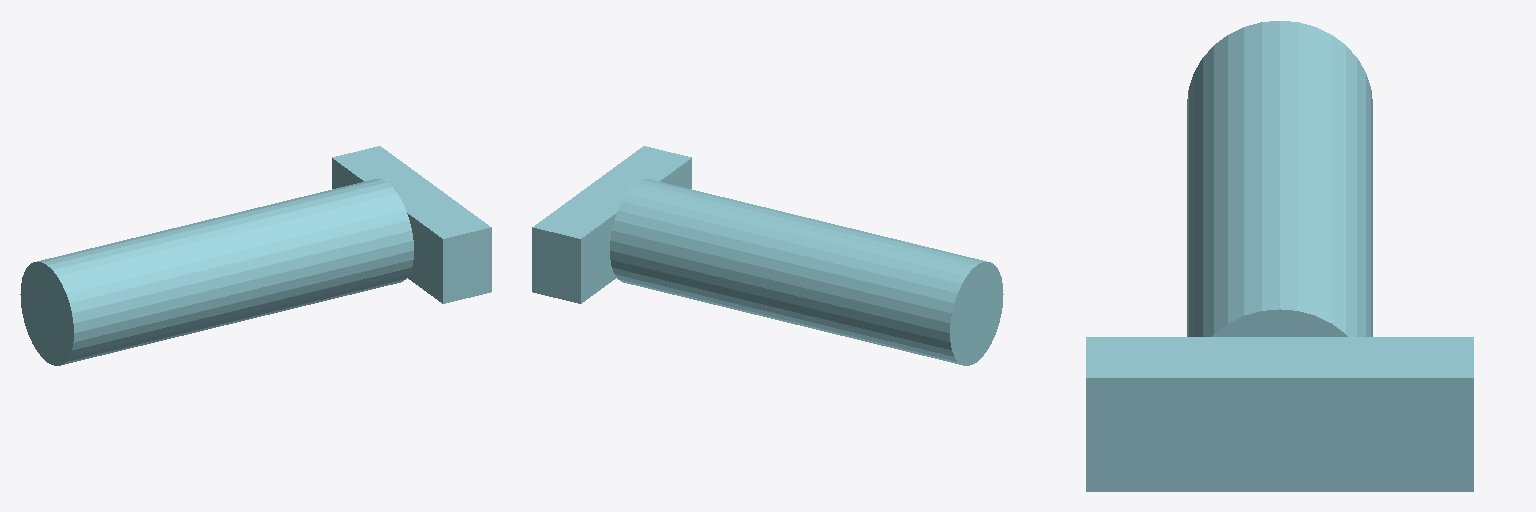
URDF robot description (cylinder_hammer_v1010):
<?xml version="1.0"?>
<robot name="cylinder_hammer_v1010">

  <link name="cylinder_hammer_v1010">
    <!-- Handle -->
    <visual>
      <origin xyz="0 0 0" rpy="0 1.5707963267948966 0"/>
      <geometry>
        <cylinder length="0.1710373633497916" radius="0.023310542153085742"/>
      </geometry>
      <material name="material">
        <color rgba="0.639 0.847 0.882 1.0"/>
      </material>
    </visual>
    <collision>
      <origin xyz="0 0 0" rpy="0 1.5707963267948966 0"/>
      <geometry>
        <cylinder length="0.1710373633497916" radius="0.023310542153085742"/>
      </geometry>
    </collision>

    <!-- Head -->
    <visual>
      <origin xyz="0.09769019649760467 0 0" rpy="0 0 0"/>
      <geometry>
        <box size="0.024343029645417742 0.09705680651278681 0.031249351353560332"/>
      </geometry>
      <material name="material">
        <color rgba="0.639 0.847 0.882 1.0"/>
      </material>
    </visual>
    <collision>
      <origin xyz="0.09769019649760467 0 0" rpy="0 0 0"/>
      <geometry>
        <box size="0.024343029645417742 0.09705680651278681 0.031249351353560332"/>
      </geometry>
    </collision>

    <inertial>
      <density value="400.0"/>
    </inertial>
  </link>

</robot>

--- Render facts (derived) ---
3 views of the same robot in one strip: view 1: azimuth 30°, elevation 25°; view 2: azimuth 150°, elevation 25°; view 3: azimuth 270°, elevation 25° (orthographic).
Model cylinder_hammer_v1010 with 1 links and 0 joints (none), rooted at cylinder_hammer_v1010, posed every joint at zero.
Visible links, largest first — view 1: cylinder_hammer_v1010; view 2: cylinder_hammer_v1010; view 3: cylinder_hammer_v1010.
Boxes of the visible links, <box> form: cylinder_hammer_v1010: <box>20,146,491,365</box>; cylinder_hammer_v1010: <box>532,146,1003,365</box>; cylinder_hammer_v1010: <box>1086,21,1473,491</box>.
Size in the robot's own frame: 0.1954 by 0.0971 by 0.0466 metres.
Geometry: primitives only (box / cylinder / sphere), no mesh files.
